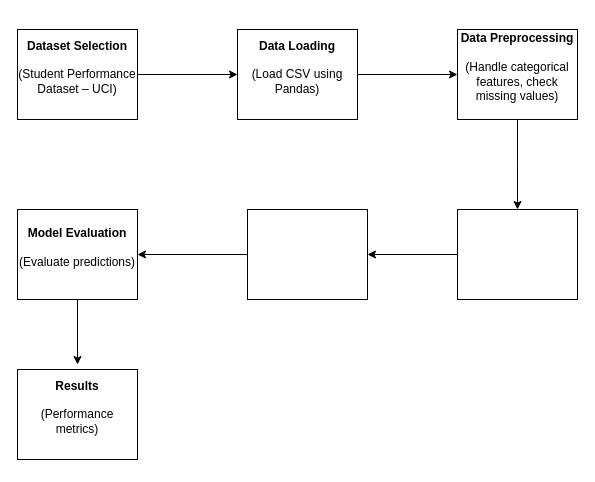
This 595x482 diagram has some shape labels left out. The centre of each missing label's shape, as x and y in pixels:
"Model Training (Regression Model)" belongs at pixel 307 254.
"Train / Test Split (Split data into training and testing sets)" belongs at pixel 517 254.
